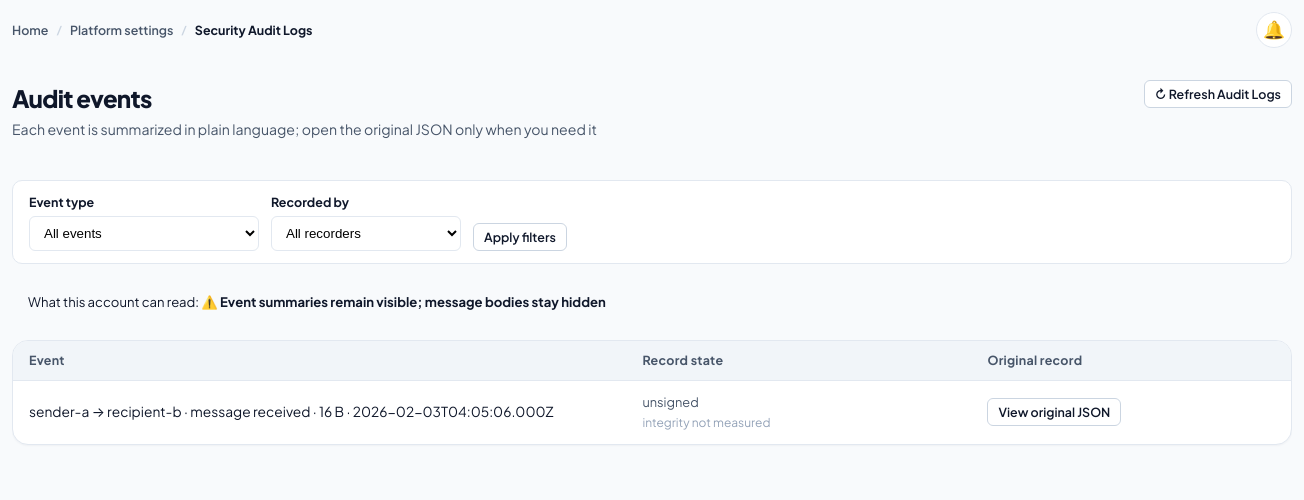
Test: SPEC § 11.0's content boundary › withholds it when the session's capability list says nothing is held
This screenshot has width=1304, height=500.
Click the button "View original JSON". click: click(1054, 412)
box: [988,398,1121,426]
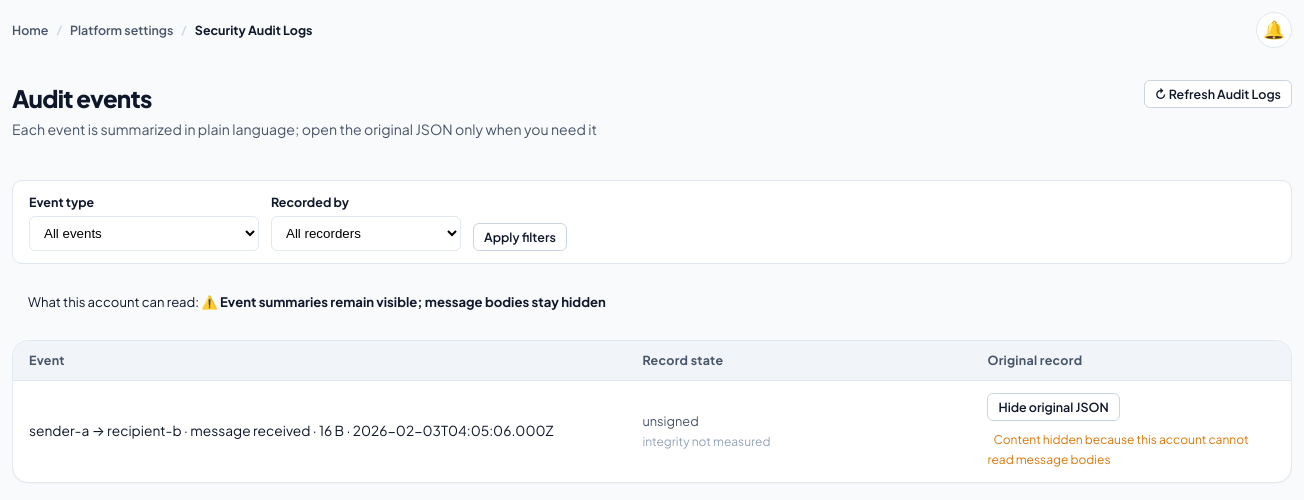
expect the text with test id "audit-withheld" is shown: met, box [988,430,1249,469]
